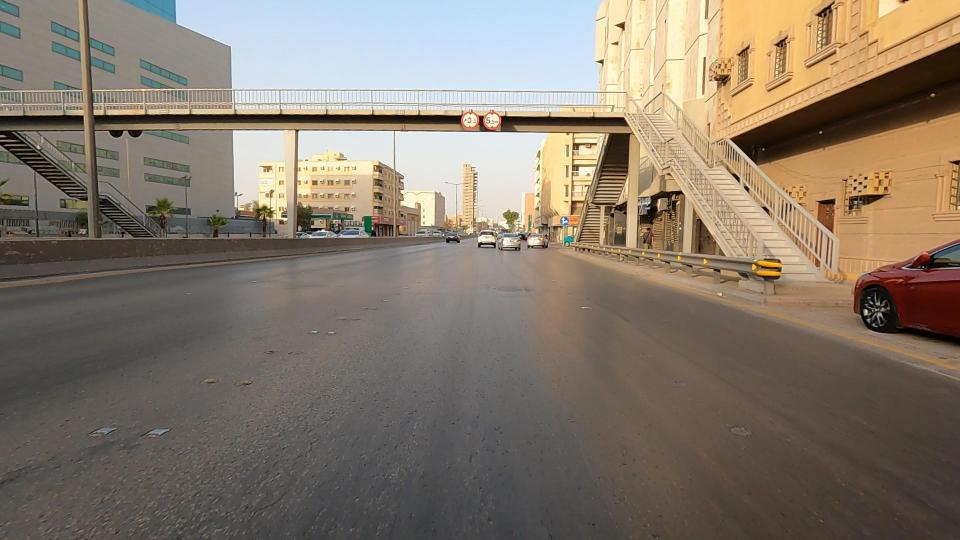FADED_SIGNAGE: (439, 89, 489, 144), (472, 90, 517, 147)
